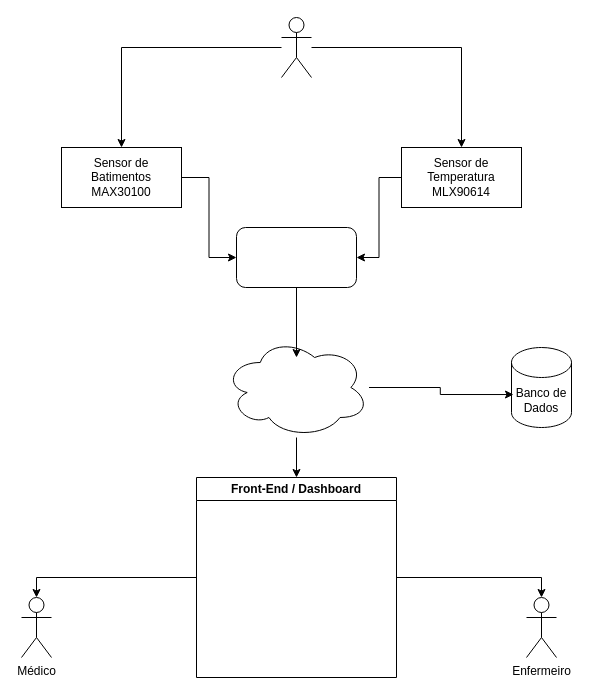
The diagram is 589 pixels wide and 696 high, and some of its shapes have lost their labels. Here are the shapes that lost their labels. From the top down, the box of each, then its label:
(280, 16, 312, 78): Paciente
(236, 226, 356, 288): ESP32
(223, 336, 369, 438): Back-End / Servidor
